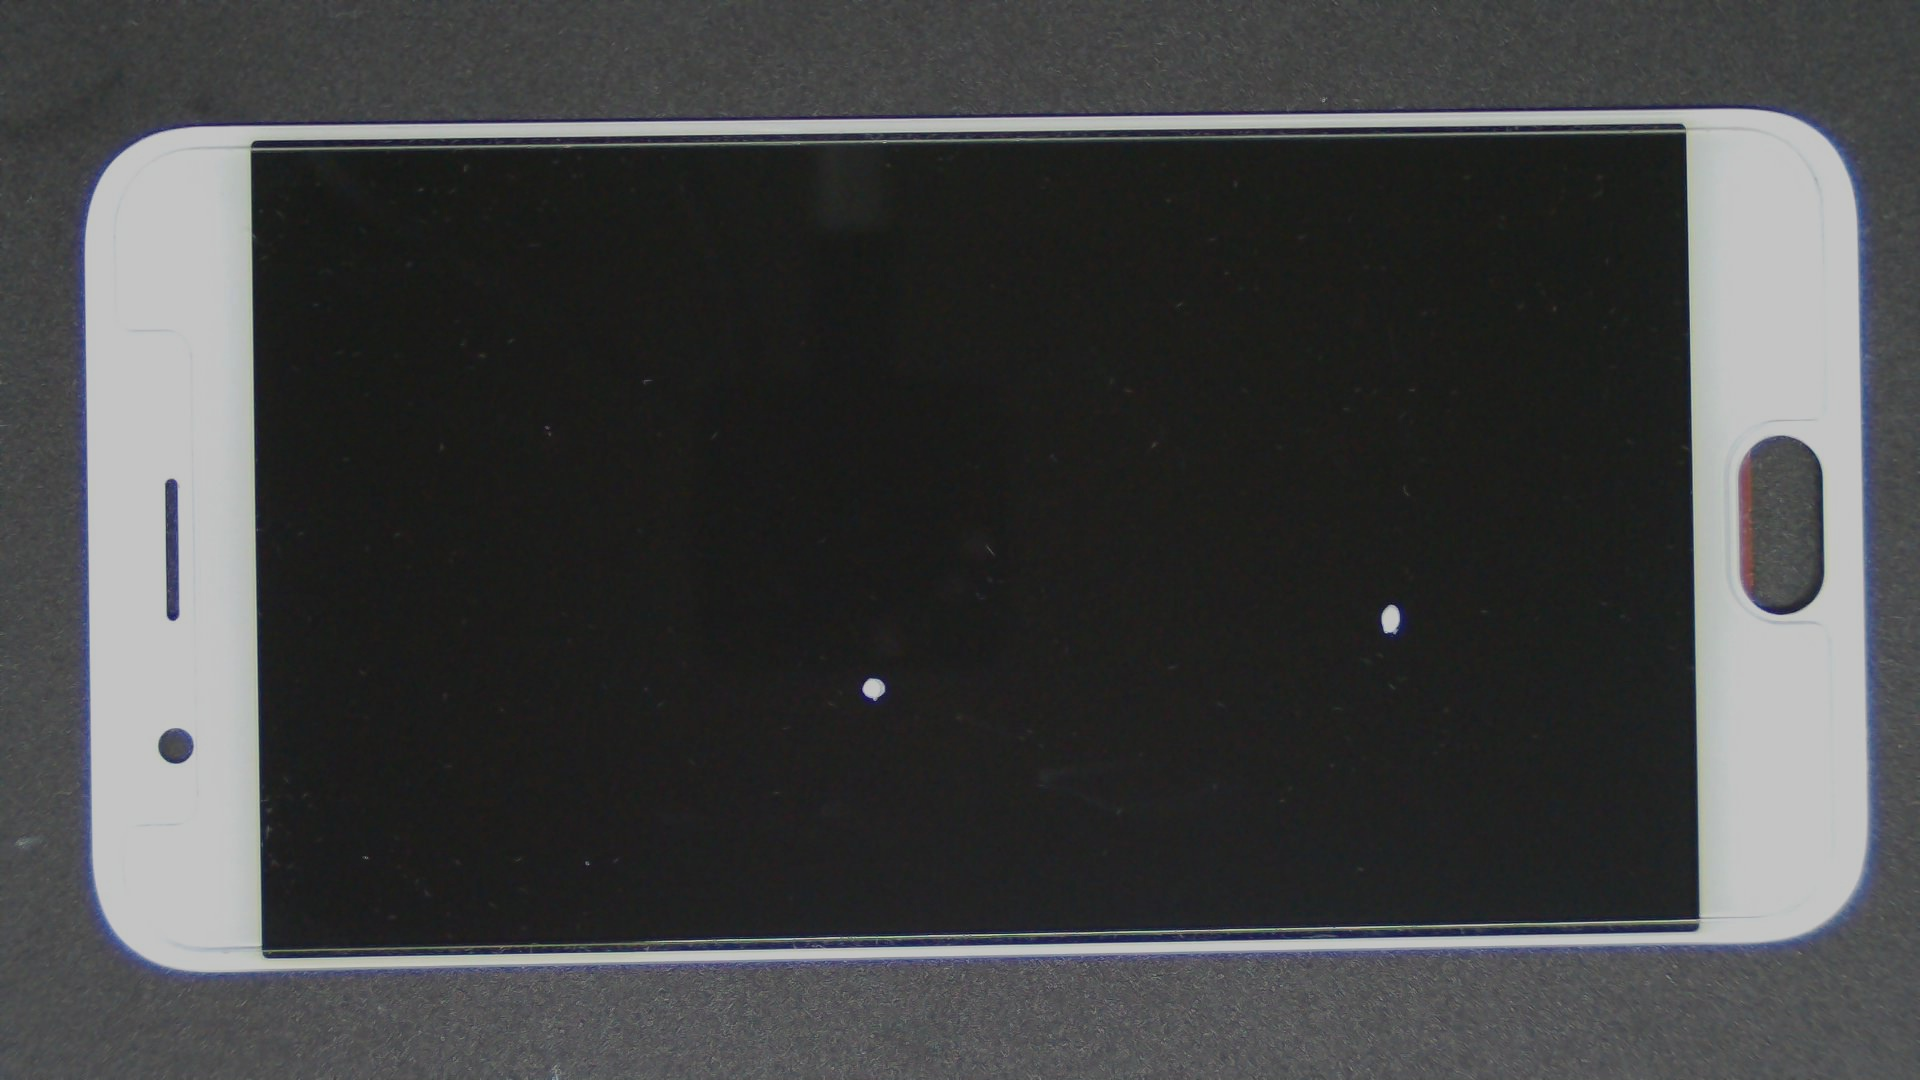oil: (696, 299, 1920, 907), (436, 338, 1305, 1014)
